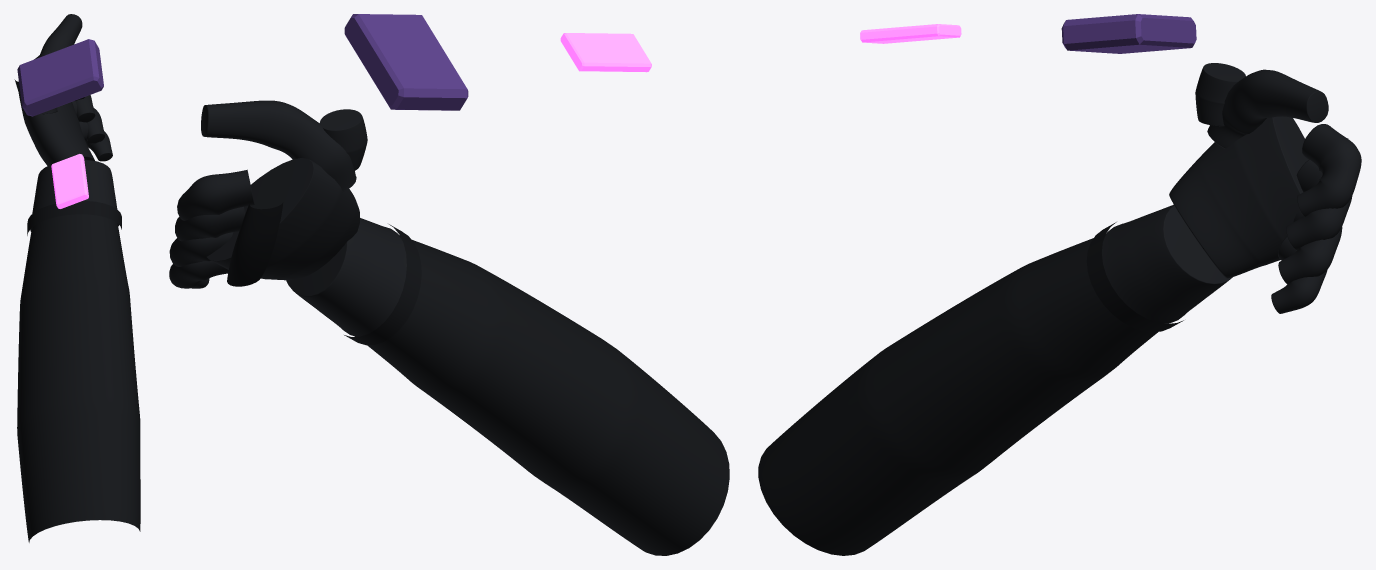
File: hands_tempest_magout.glb
3 views of the same model, side by side, from view 1: azimuth 30°, elevation 25°; view 2: azimuth 150°, elevation 25°; view 3: azimuth 270°, elevation 25° (orthographic). The views are drawn at different scales.
Parts seen in each view (by area): view 1: hand_l_forearm, hand_l_cuff_plate, hand_l_palm, hand_l_cuff, hand_l_lamp, hand_l_cuff_strap, hand_l_thumb, hand_l_little, hand_l_ring, hand_l_middle; view 2: hand_l_forearm, hand_l_palm, hand_l_cuff_plate, hand_l_cuff, hand_l_thumb, hand_l_lamp, hand_l_knuckle_panel, hand_l_index, hand_l_cuff_strap, hand_l_web, hand_l_middle, hand_l_ring (+1 smaller); view 3: hand_l_forearm, hand_l_palm, hand_l_cuff, hand_l_thumb, hand_l_cuff_plate, hand_l_index, hand_l_middle, hand_l_cuff_strap, hand_l_web, hand_l_ring, hand_l_little, hand_l_lamp.
Part boxes in pixels (x1,y1,x2,y2): hand_l_forearm: (17, 214, 140, 542); hand_l_cuff_plate: (17, 39, 103, 116); hand_l_palm: (18, 81, 94, 166); hand_l_cuff: (30, 159, 118, 231); hand_l_lamp: (51, 154, 88, 208); hand_l_cuff_strap: (27, 201, 121, 235); hand_l_thumb: (39, 14, 82, 114); hand_l_little: (79, 121, 112, 161); hand_l_ring: (72, 101, 104, 143); hand_l_middle: (75, 95, 95, 122); hand_l_forearm: (367, 235, 729, 555); hand_l_palm: (207, 158, 359, 280); hand_l_cuff_plate: (344, 14, 468, 110); hand_l_cuff: (286, 218, 406, 336); hand_l_thumb: (201, 100, 356, 191); hand_l_lamp: (560, 33, 651, 72); hand_l_knuckle_panel: (227, 202, 283, 286); hand_l_index: (177, 169, 254, 220); hand_l_cuff_strap: (344, 224, 421, 345); hand_l_web: (320, 109, 367, 170); hand_l_middle: (175, 206, 245, 241); hand_l_ring: (169, 232, 233, 266); hand_l_forearm: (758, 238, 1168, 555); hand_l_palm: (1169, 116, 1308, 278); hand_l_cuff: (1102, 204, 1232, 323); hand_l_thumb: (1207, 69, 1328, 148); hand_l_cuff_plate: (1061, 14, 1196, 53); hand_l_index: (1297, 124, 1361, 216); hand_l_middle: (1286, 159, 1352, 250); hand_l_cuff_strap: (1086, 222, 1183, 332); hand_l_web: (1195, 63, 1245, 126); hand_l_ring: (1278, 211, 1342, 284); hand_l_little: (1271, 236, 1327, 313); hand_l_lamp: (860, 24, 961, 43).
Size of the model in its own units: 0.1719 by 0.297 by 0.2661.
